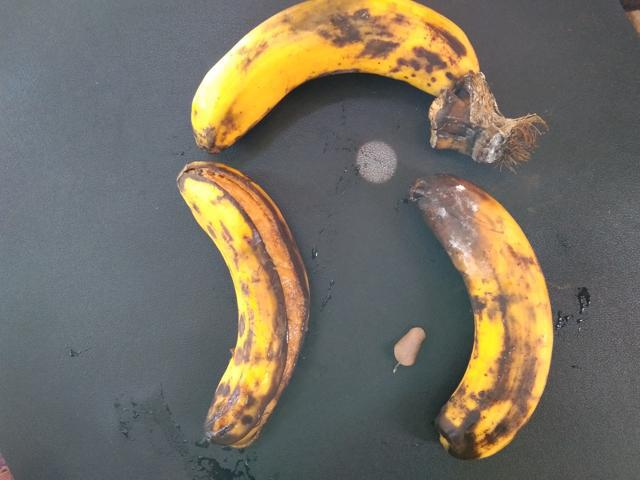overripe: (185, 0, 508, 148)
rotten: (393, 172, 568, 479), (166, 165, 334, 457)
